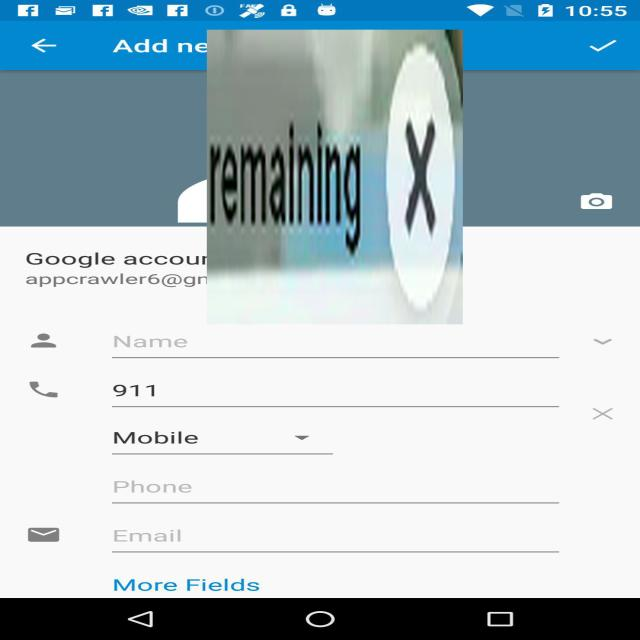misdirection: (207, 30, 463, 324)
